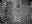person: (14, 1, 18, 5)
